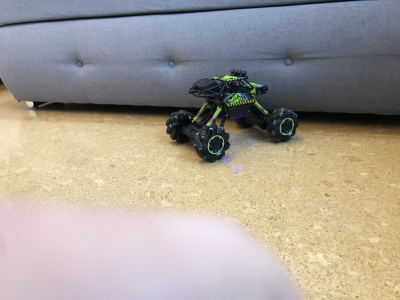remote control car: (161, 66, 302, 164)
